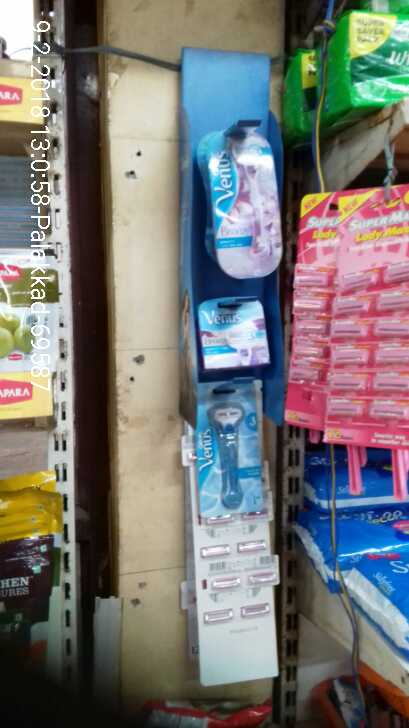venus: (202, 133, 292, 285), (192, 379, 277, 519), (193, 298, 273, 366)
